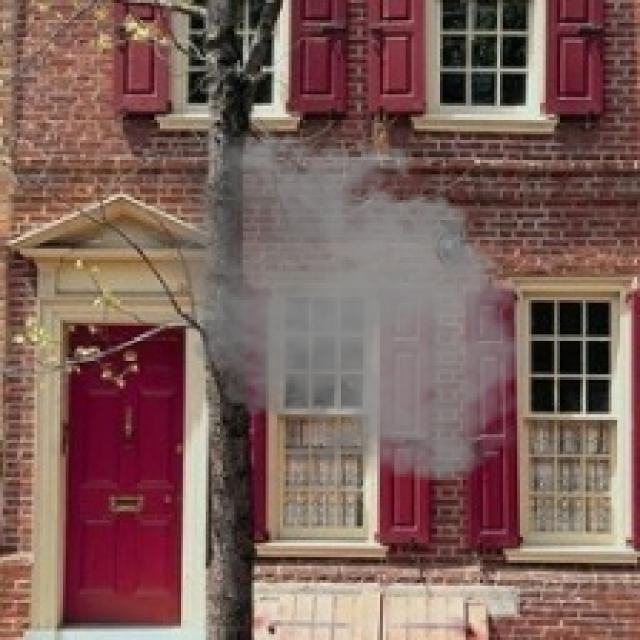Smoke: (140, 120, 543, 489)
